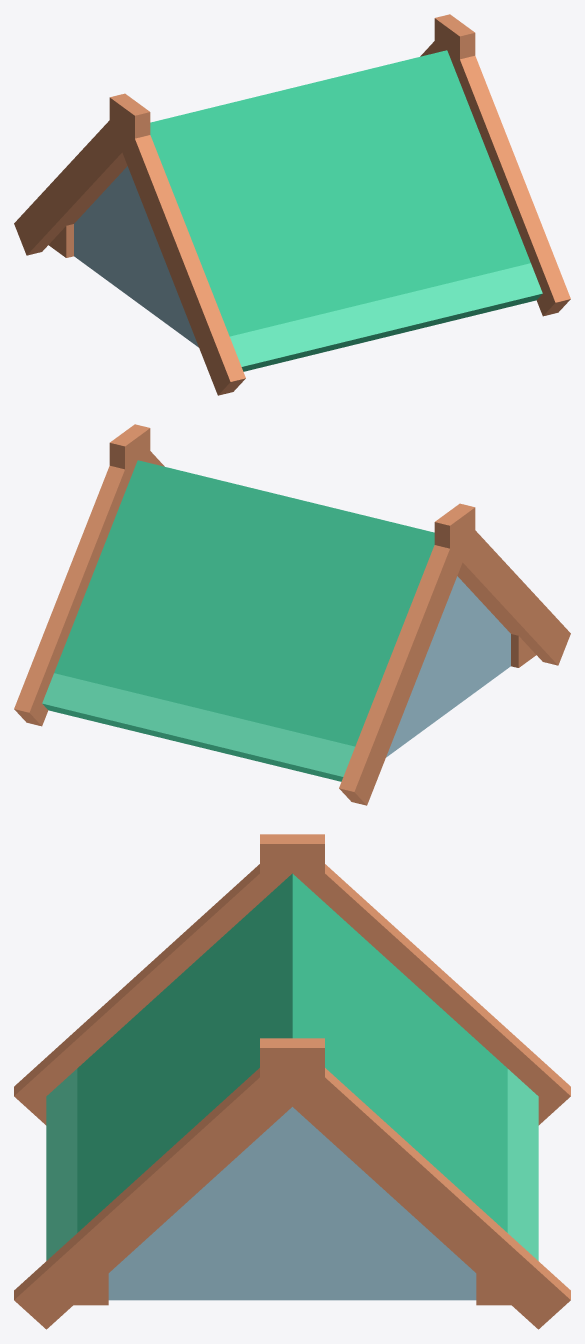
Rendered from roofGableDetail.glb.
3 views of the same model, one above another, from view 1: azimuth 30°, elevation 25°; view 2: azimuth 150°, elevation 25°; view 3: azimuth 270°, elevation 25° (orthographic). The views are drawn at different scales.
Parts seen in each view (by area): view 1: roofGableDetail; view 2: roofGableDetail; view 3: roofGableDetail.
Boxes of the visible parts, box(x1,y1,x2,y2) form: roofGableDetail: box(14, 14, 570, 395); roofGableDetail: box(14, 424, 570, 805); roofGableDetail: box(14, 834, 570, 1329).
Bounding box in the file's own units: 1.1 × 0.6768 × 1.21.
